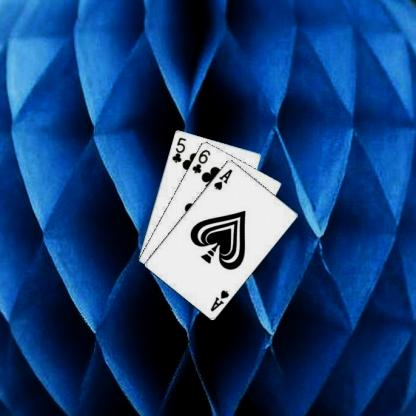5C: (169, 134, 187, 164)
6C: (189, 147, 212, 174)
AS: (211, 166, 234, 191), (208, 287, 230, 312)
